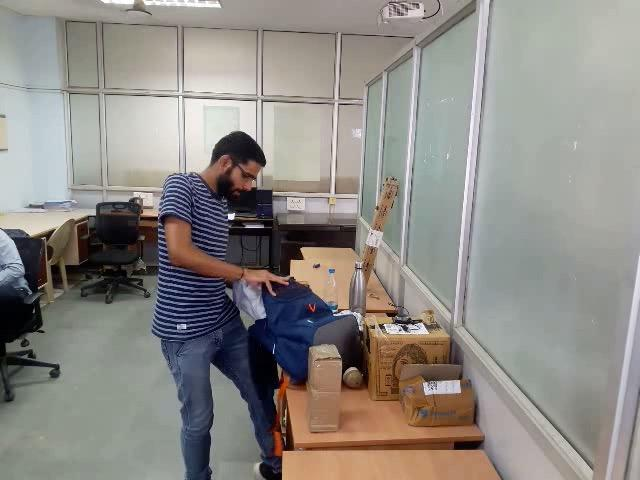shoplifting: (220, 261, 361, 392)
